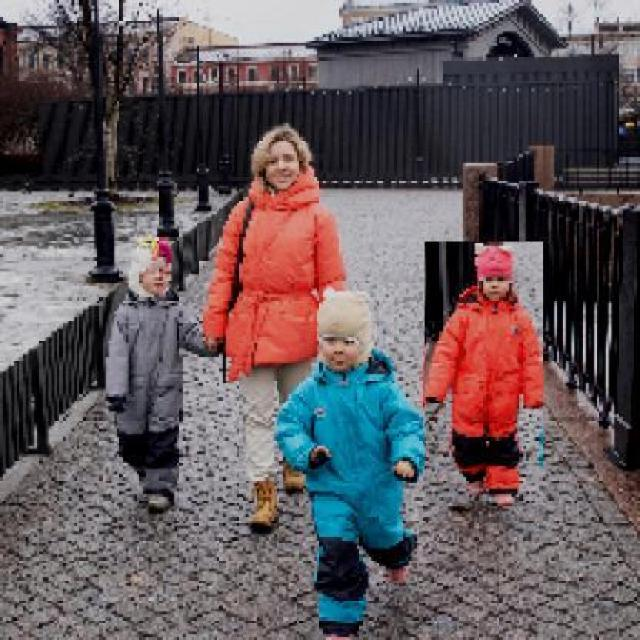child: (272, 282, 428, 638), (423, 242, 543, 508), (104, 232, 216, 512)
